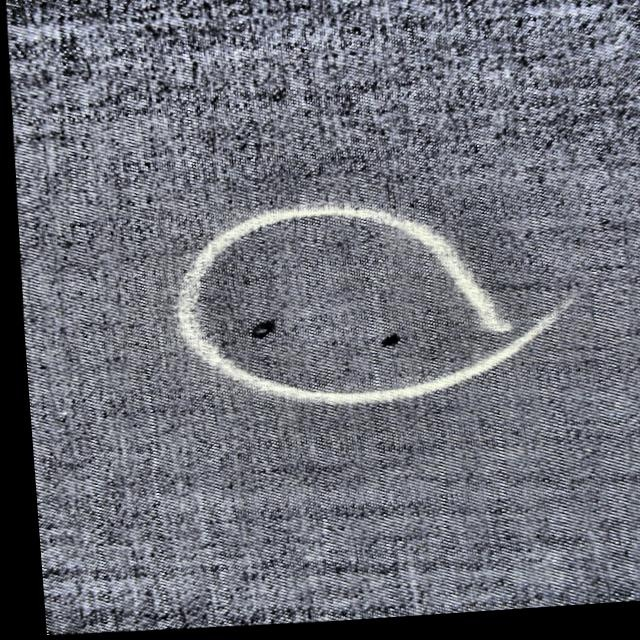Hole: (237, 314, 291, 347)
